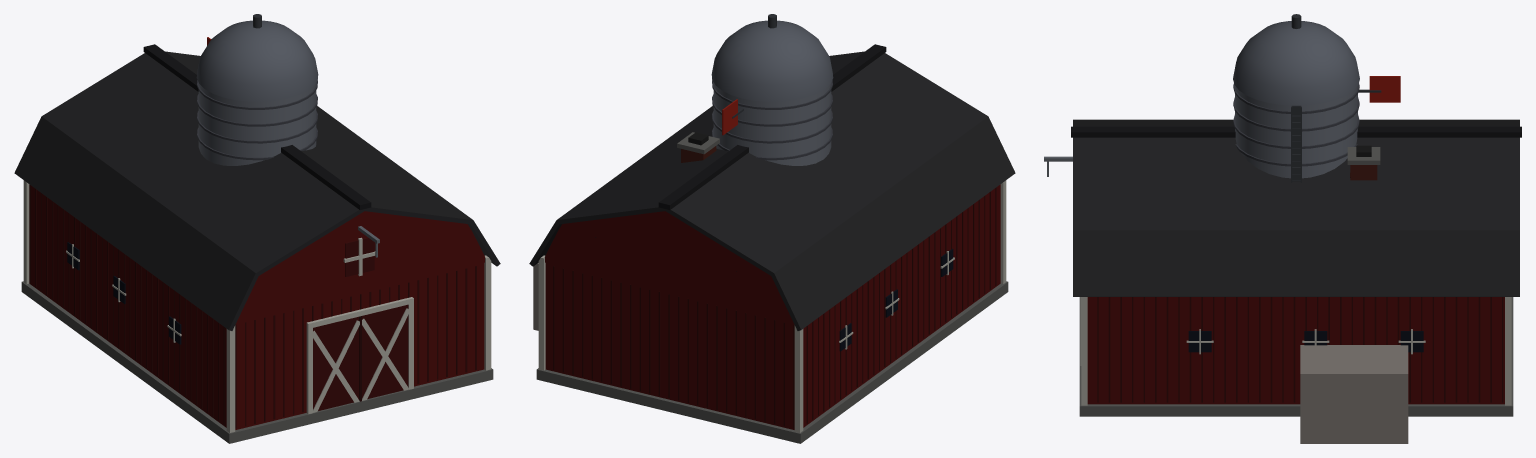
File: farm_kit.glb
The picture shows the model from 3 angles, left to right: view 1: azimuth 30°, elevation 25°; view 2: azimuth 150°, elevation 25°; view 3: azimuth 270°, elevation 25°; orthographic projection. The views are drawn at different scales.
Visible parts, largest first — view 1: barn, silo; view 2: barn, silo, farmhouse; view 3: barn, silo, farmhouse, windmill.
Boxes of the visible parts, box(x1,y1,x2,y2) form: barn: box(14, 44, 500, 443); silo: box(196, 14, 318, 165); barn: box(529, 44, 1015, 443); silo: box(711, 14, 833, 165); farmhouse: box(677, 132, 719, 162); barn: box(1044, 119, 1521, 443); silo: box(1233, 14, 1359, 182); farmhouse: box(1347, 145, 1380, 180); windmill: box(1358, 76, 1400, 102).
Bounding box in the file's own units: 20.1 × 19.14 × 24.8.
